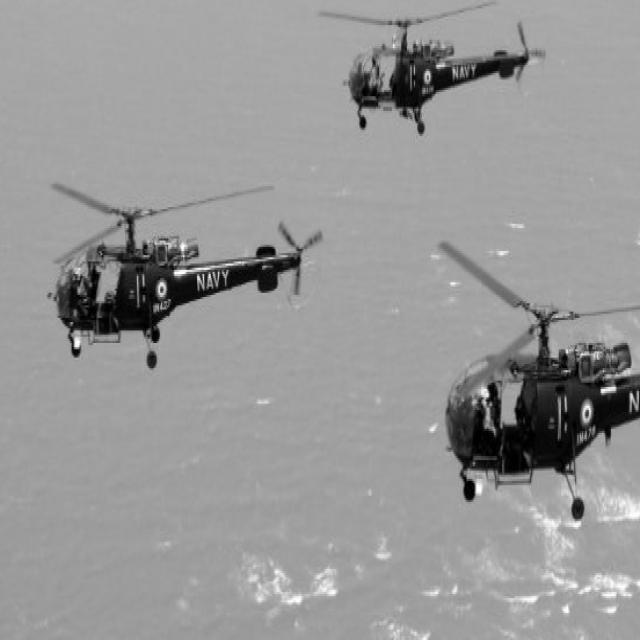helicopter: (40, 162, 334, 380), (436, 241, 640, 524), (321, 1, 555, 147)
